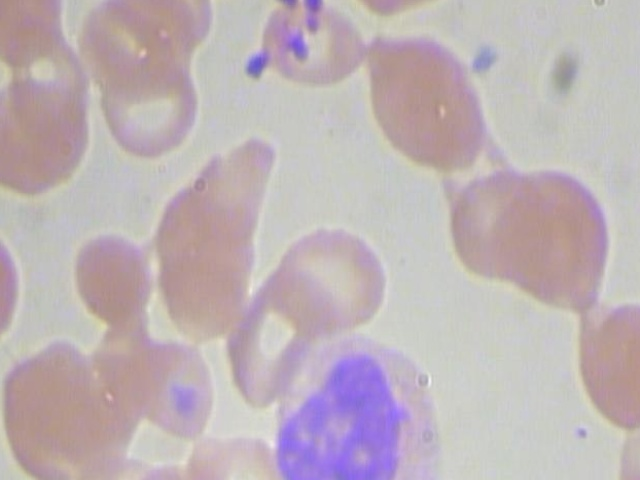Platelets: (466, 34, 504, 81), (239, 47, 272, 85)
RBC: (491, 154, 627, 310), (359, 24, 494, 180), (276, 224, 390, 335), (95, 55, 202, 163), (0, 76, 91, 202), (127, 329, 219, 443), (252, 0, 370, 87), (69, 229, 162, 327), (204, 434, 296, 480), (101, 451, 208, 480)
WBC: (260, 324, 468, 480)
